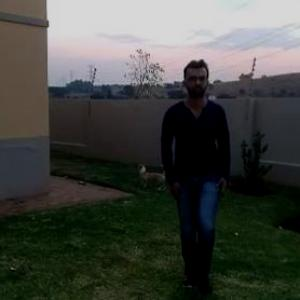follow: (160, 57, 228, 290)
